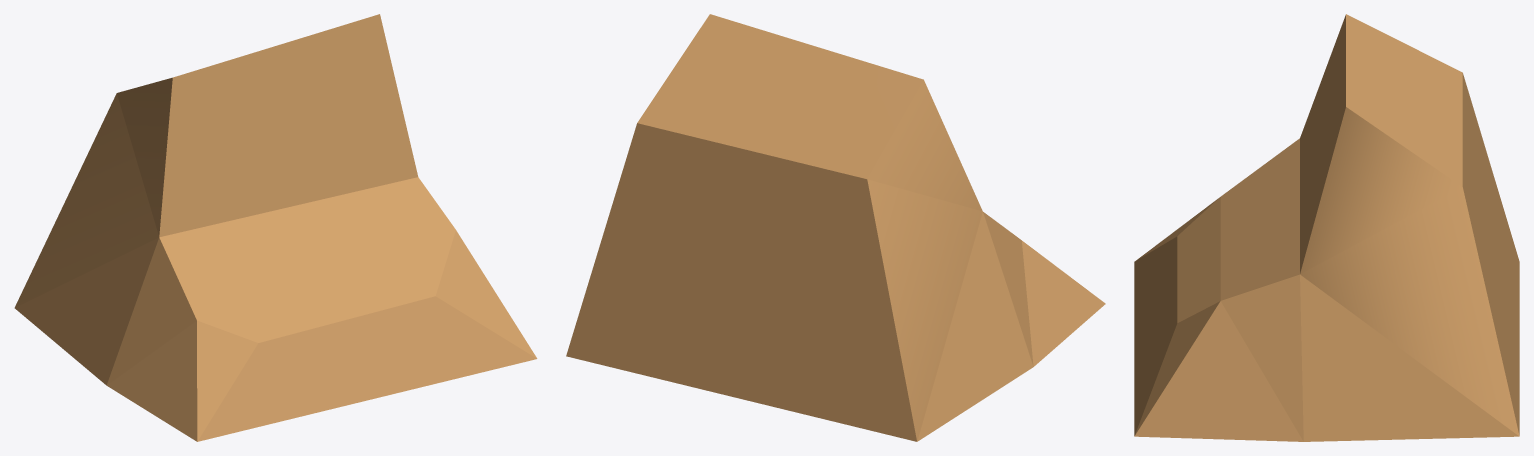
Rendered from decoration_stone_01.glb.
3 views of the same model, side by side, from view 1: azimuth 30°, elevation 25°; view 2: azimuth 150°, elevation 25°; view 3: azimuth 270°, elevation 25° (orthographic). The views are drawn at different scales.
Visible parts, largest first — view 1: Plane.065; view 2: Plane.065; view 3: Plane.065.
Part boxes in pixels (<box>): Plane.065: <box>14,14,537,441</box>; Plane.065: <box>566,14,1105,441</box>; Plane.065: <box>1134,14,1519,441</box>.
Bounding box in the file's own units: 13.93 × 10.52 × 12.23.
1 material, 1 textured.
